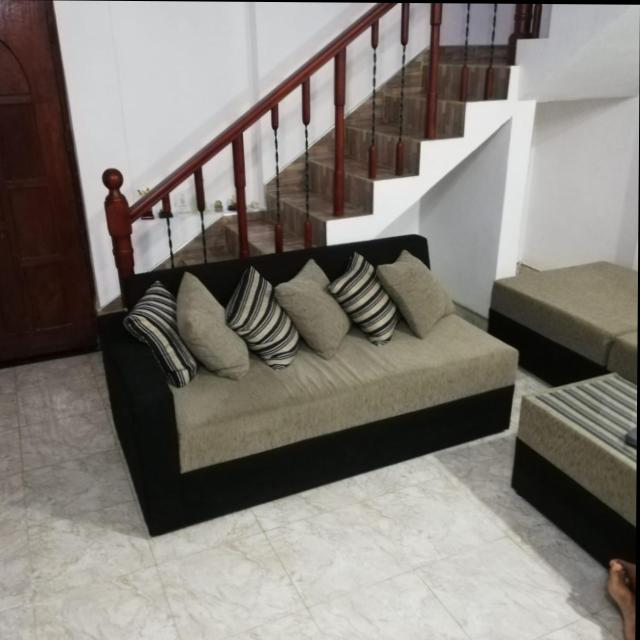Sofa: (101, 230, 520, 542)
